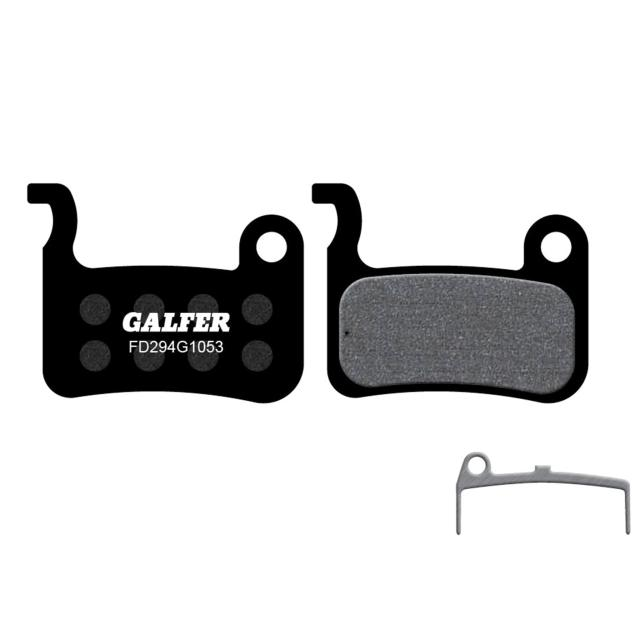brake_pad: (310, 175, 600, 413), (19, 178, 306, 414)
